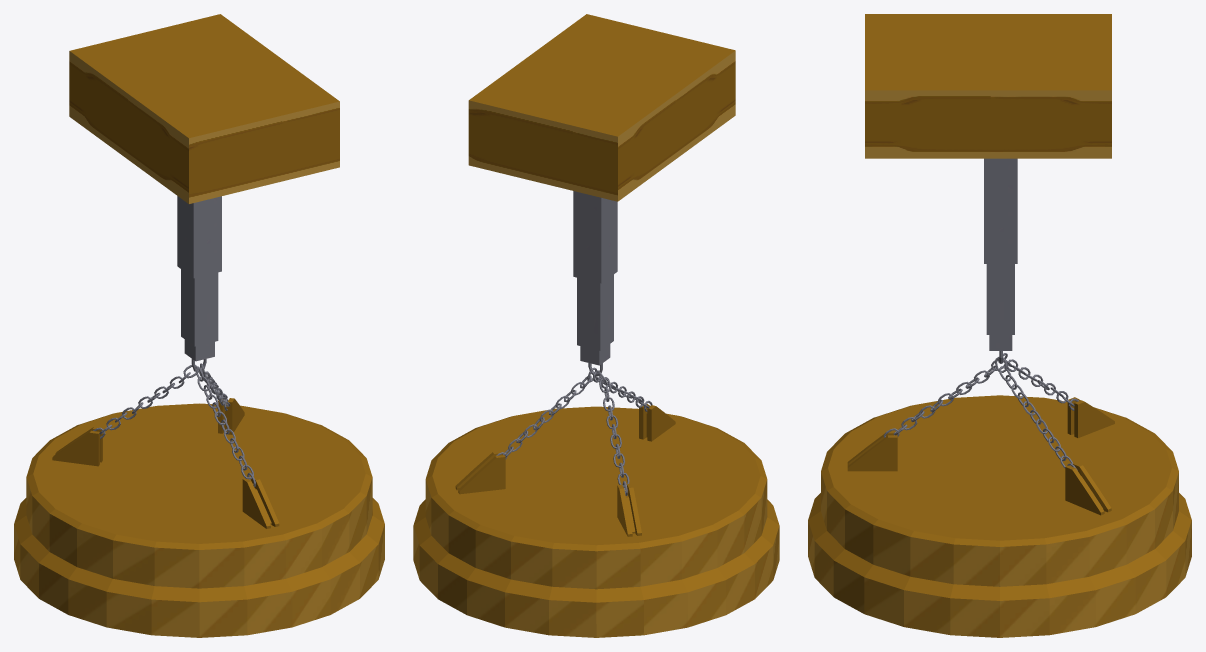
Rendered from mdlMagnetMedium.fbx.
The picture shows the model from 3 angles, left to right: view 1: azimuth 30°, elevation 25°; view 2: azimuth 150°, elevation 25°; view 3: azimuth 270°, elevation 25°; orthographic projection. The views are drawn at different scales.
Parts seen in each view (by area): view 1: Magnet.001; view 2: Magnet.001; view 3: Magnet.001.
Boxes of the visible parts, box(x1,y1,x2,y2) form: Magnet.001: box(14, 14, 384, 637); Magnet.001: box(413, 14, 779, 637); Magnet.001: box(808, 14, 1191, 637).
Bounding box in the file's own units: 10.19 × 14.79 × 10.19.
1 material, 1 textured.
